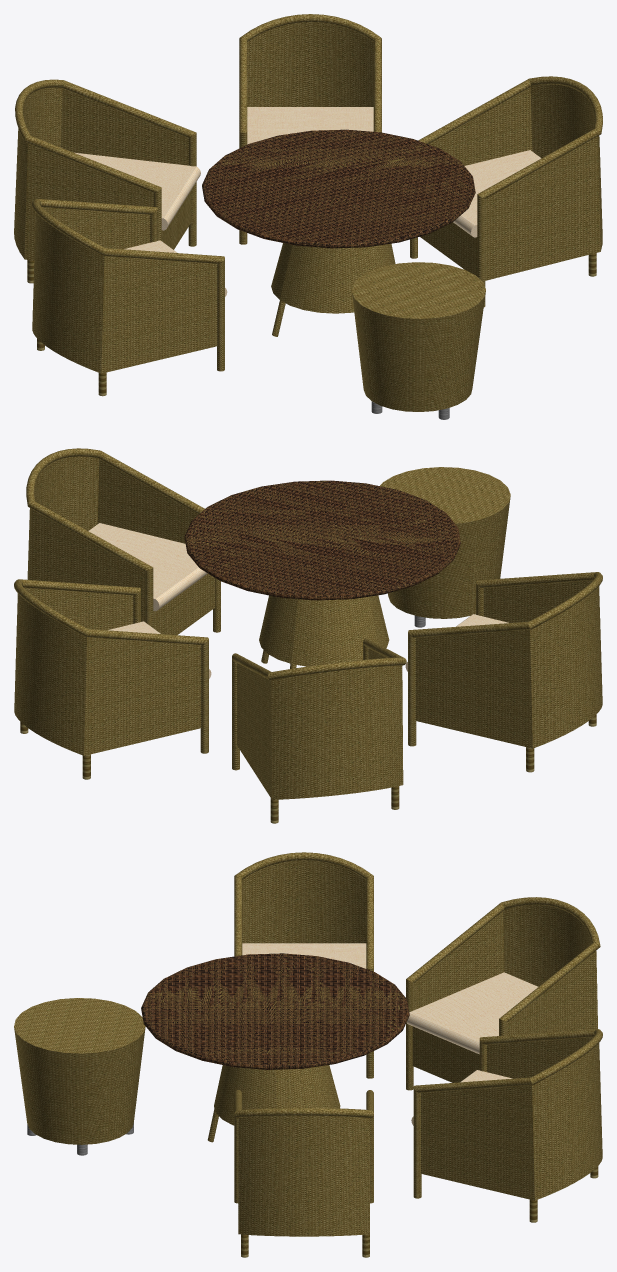
The model's file is garden furniture 6.dae.
3 renders of one model, top to bottom at view 1: azimuth 30°, elevation 25°; view 2: azimuth 150°, elevation 25°; view 3: azimuth 270°, elevation 25°, orthographic. The views are drawn at different scales.
Visible parts, largest first — view 1: group_9, group_0, group_10 (×2), group_12, OD_0.03_m_ID_0.01_m (×4), group_2 (×2), group_4, group_7, group_5, group_3, group_11; view 2: group_9, group_0, group_4, group_2, group_10 (×2), OD_0.03_m_ID_0.01_m (×4), group_12, group_7, group_11; view 3: group_9, group_4, group_12, group_2 (×2), group_10, OD_0.03_m_ID_0.01_m (×4), group_0, group_3, group_7, group_1.
Part boxes in pixels (bbox=[...]): group_9: bbox=[202, 129, 475, 248]; group_0: bbox=[32, 207, 217, 373]; group_10 (×2): bbox=[420, 84, 602, 280]; group_12: bbox=[352, 262, 485, 411]; OD_0.03_m_ID_0.01_m (×4): bbox=[15, 14, 602, 371]; group_2 (×2): bbox=[14, 87, 191, 260]; group_4: bbox=[247, 22, 373, 106]; group_7: bbox=[271, 243, 395, 313]; group_5: bbox=[247, 107, 373, 144]; group_3: bbox=[74, 152, 200, 230]; group_11: bbox=[453, 150, 541, 237]; group_9: bbox=[184, 480, 460, 600]; group_0: bbox=[415, 580, 602, 748]; group_4: bbox=[14, 587, 201, 755]; group_2: bbox=[237, 648, 403, 799]; group_10 (×2): bbox=[27, 456, 214, 635]; OD_0.03_m_ID_0.01_m (×4): bbox=[14, 448, 602, 770]; group_12: bbox=[380, 467, 510, 618]; group_7: bbox=[259, 595, 389, 666]; group_11: bbox=[88, 523, 207, 611]; group_9: bbox=[141, 953, 409, 1069]; group_4: bbox=[421, 1037, 602, 1200]; group_12: bbox=[14, 998, 145, 1144]; group_2 (×2): bbox=[412, 905, 597, 1082]; group_10: bbox=[238, 1115, 369, 1236]; OD_0.03_m_ID_0.01_m (×4): bbox=[234, 852, 602, 1203]; group_0: bbox=[242, 860, 366, 943]; group_3: bbox=[406, 972, 538, 1054]; group_7: bbox=[214, 1065, 340, 1125]; group_1: bbox=[242, 943, 366, 968].
Size of the model in its own units: 91.84 by 87.9 by 26.32.
Materials: 6 (5 with a texture image).
